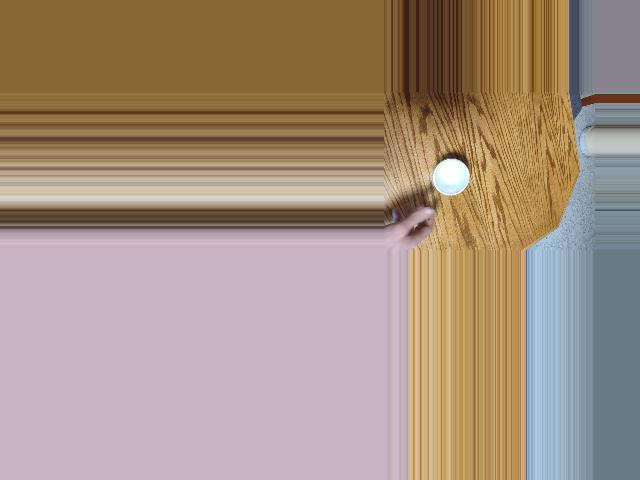cotage: (427, 160, 469, 198)
